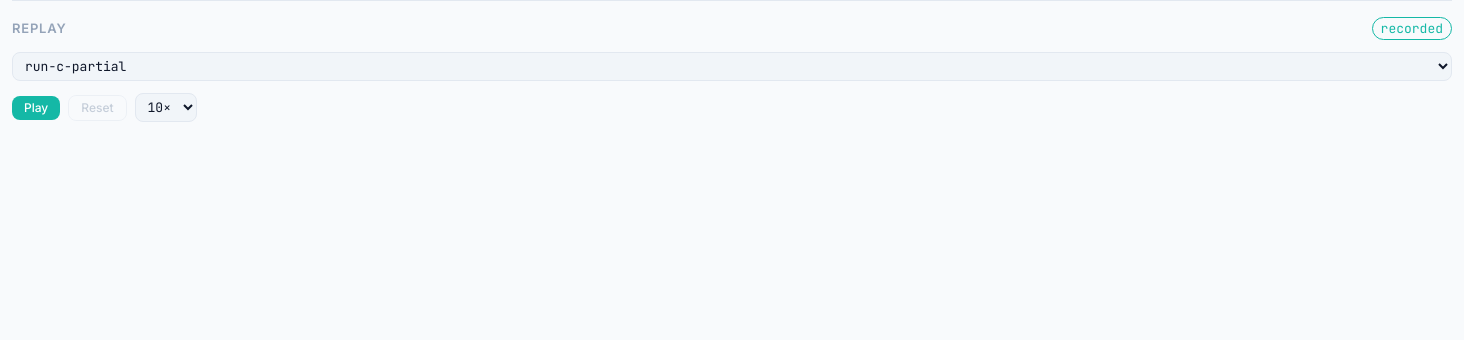
ReplayPanel scrubber › reset returns to a clean initial state with no pending timers
Select "run-c-complete" in the dropdown named "Recording" at x=732, y=67, box x1=12 y1=52 x2=1452 y2=81
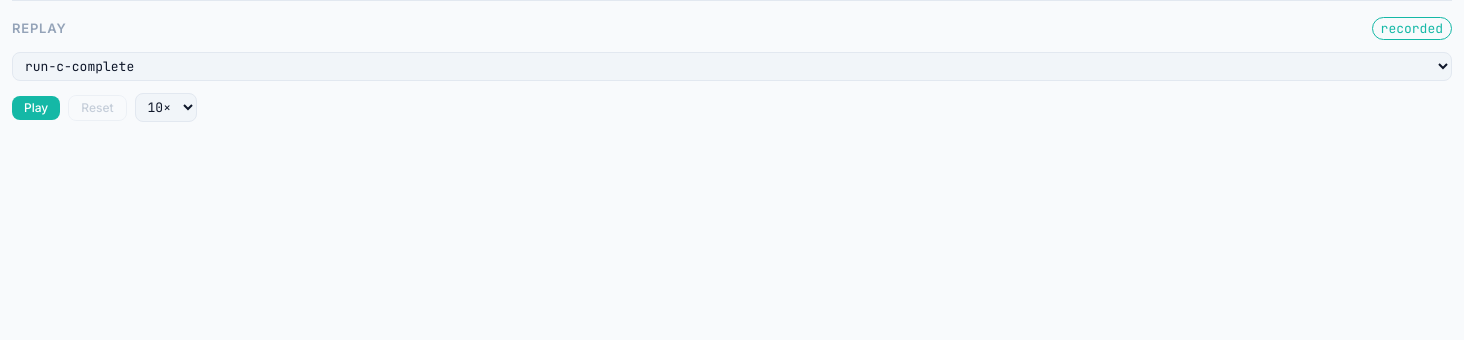
Click the button "Play" at x=36, y=108, box x1=12 y1=96 x2=60 y2=120
Wait 1000 ms
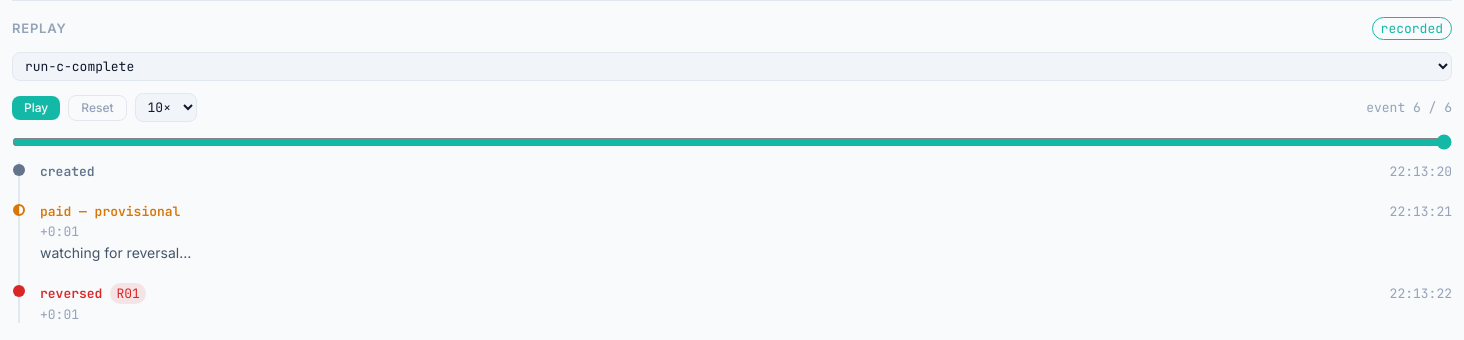
Expected: the text "event 6 / 6" is shown, x1=1366 y1=99 x2=1452 y2=116
Click the button with aria-label "Reset replay" at x=97, y=108, box x1=68 y1=95 x2=127 y2=121
Wait 5000 ms
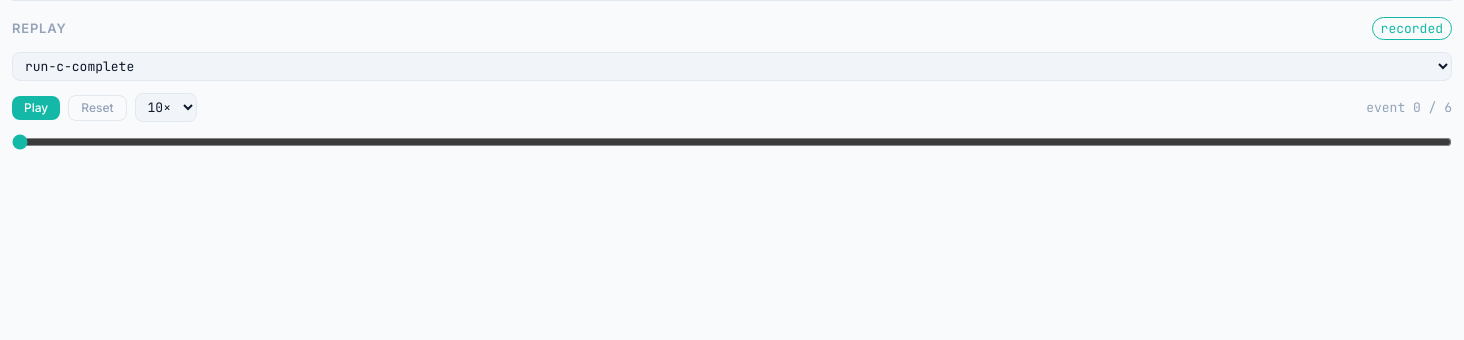
Expected: the text "reversed" is gone
Expected: the text "paid — provisional" is gone
Expected: the text "event 0 / 6" is shown, x1=1366 y1=99 x2=1452 y2=116
